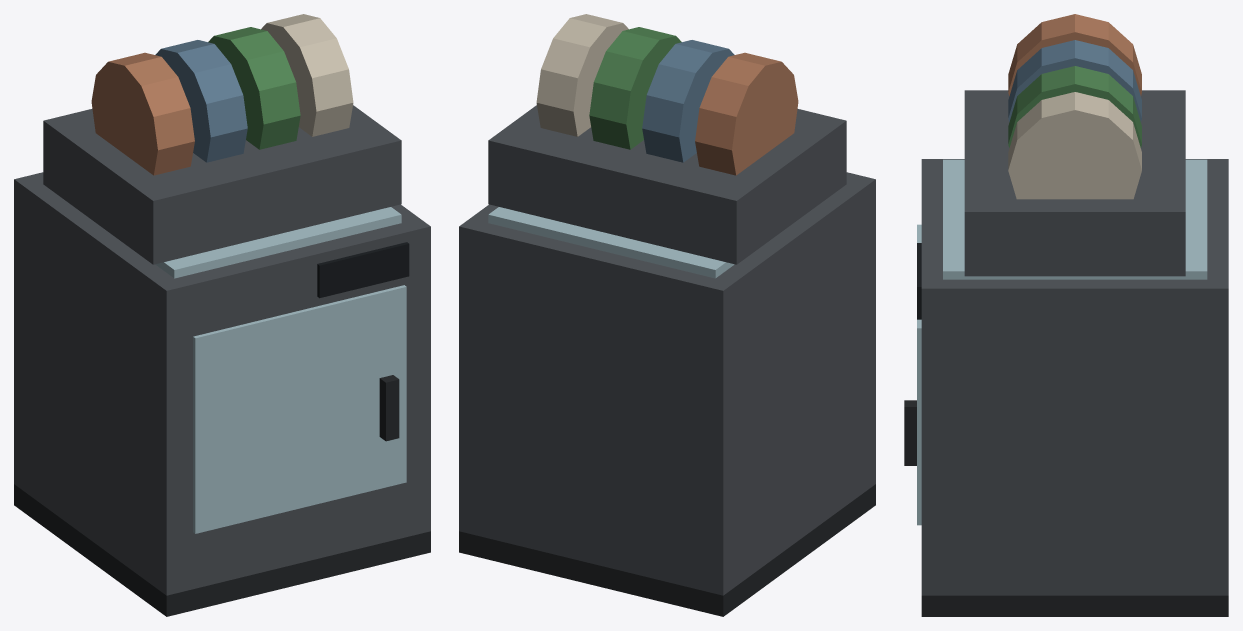
File: printer_feeder.glb
The picture shows the model from 3 angles, left to right: view 1: azimuth 30°, elevation 25°; view 2: azimuth 150°, elevation 25°; view 3: azimuth 270°, elevation 25°; orthographic projection.
Parts seen in each view (by area): view 1: printer_feeder; view 2: printer_feeder; view 3: printer_feeder.
Boxes of the visible parts, bbox=[...] form: printer_feeder: bbox=[14, 14, 430, 616]; printer_feeder: bbox=[459, 14, 875, 616]; printer_feeder: bbox=[904, 14, 1228, 616].
Size of the model in its own units: 0.39 by 0.687 by 0.412.
